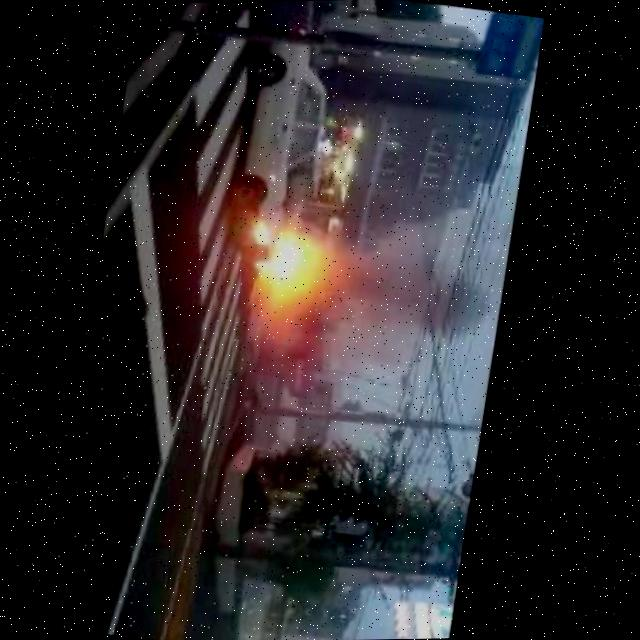fire: (241, 219, 331, 313)
